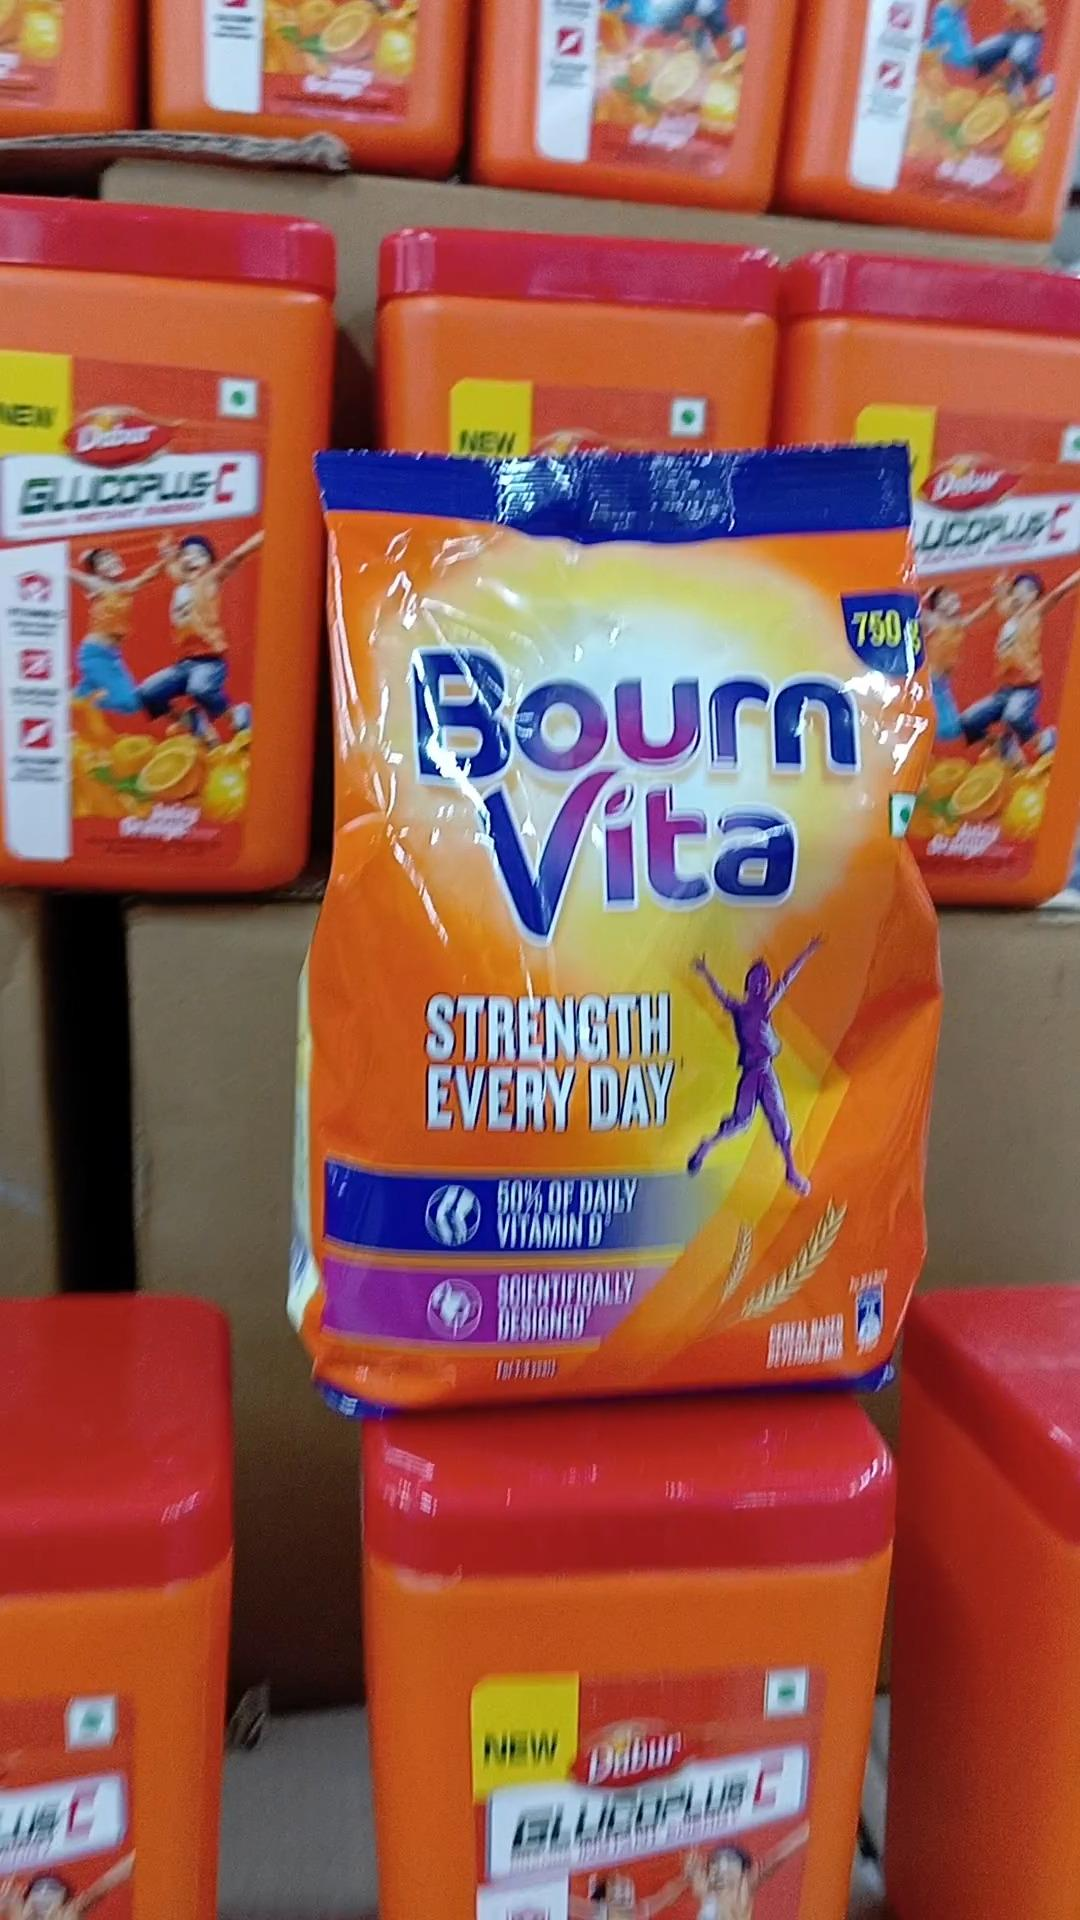BOURN_VITA_750_G_POUCH: (330, 425, 893, 1406)
